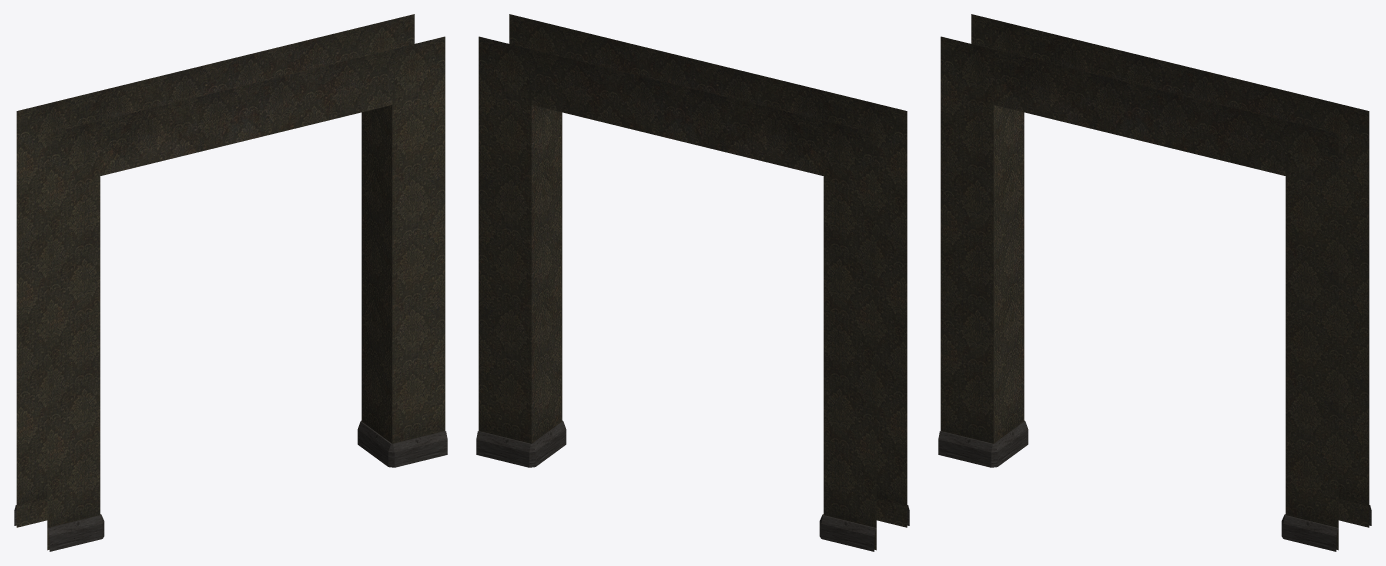
File: arc_1_wall_2_2.obj
The picture shows the model from 3 angles, left to right: view 1: azimuth 30°, elevation 25°; view 2: azimuth 150°, elevation 25°; view 3: azimuth 330°, elevation 25°; orthographic projection.
Visible parts, largest first — view 1: arc_1_wall_2_2; view 2: arc_1_wall_2_2; view 3: arc_1_wall_2_2.
Boxes of the visible parts, x1=… form: arc_1_wall_2_2: x1=14, y1=14, x2=447, y2=551; arc_1_wall_2_2: x1=476, y1=14, x2=909, y2=551; arc_1_wall_2_2: x1=938, y1=14, x2=1371, y2=551.
Bounding box in the file's own units: 3 × 3 × 0.46.
